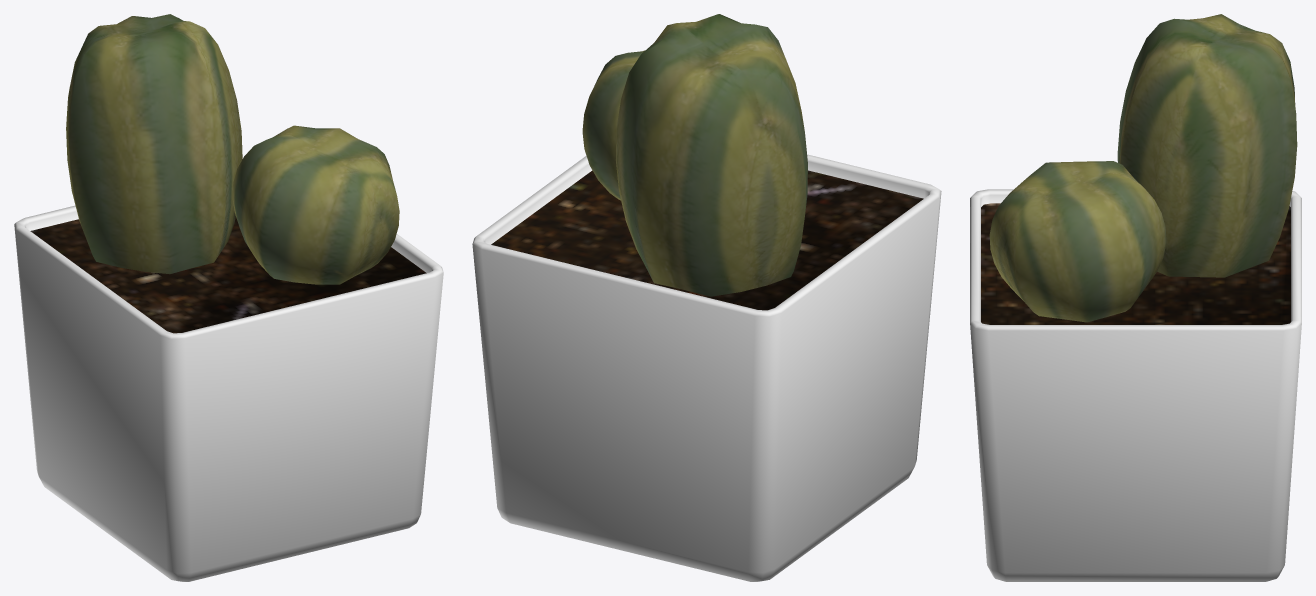
Rendered from Shelf_props_small_cactus.fbx.
3 renders of one model, left to right at view 1: azimuth 30°, elevation 25°; view 2: azimuth 150°, elevation 25°; view 3: azimuth 270°, elevation 25°, orthographic. The views are drawn at different scales.
Parts seen in each view (by area): view 1: Cylinder.017; view 2: Cylinder.017; view 3: Cylinder.017.
Boxes of the visible parts, <box> form: Cylinder.017: <box>14,14,443,581</box>; Cylinder.017: <box>472,14,941,581</box>; Cylinder.017: <box>970,14,1301,581</box>.
Bounding box in the file's own units: 9.26 × 14.7 × 9.26.
